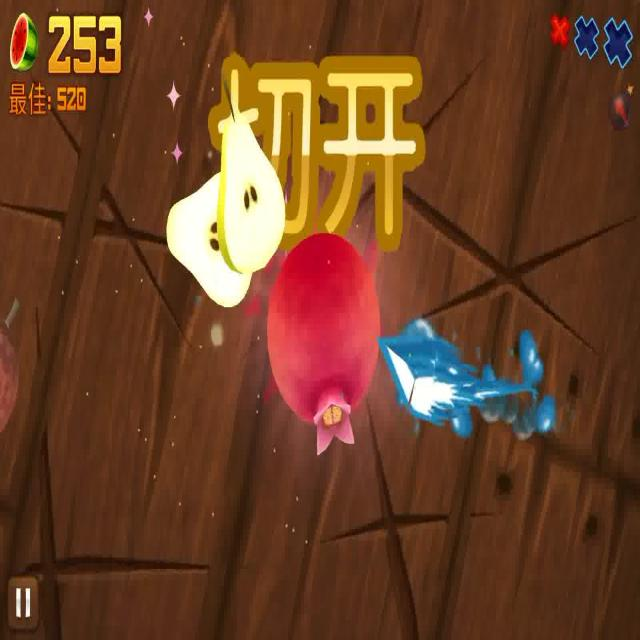fruit: (266, 225, 381, 440), (157, 184, 259, 314), (218, 100, 282, 274)
